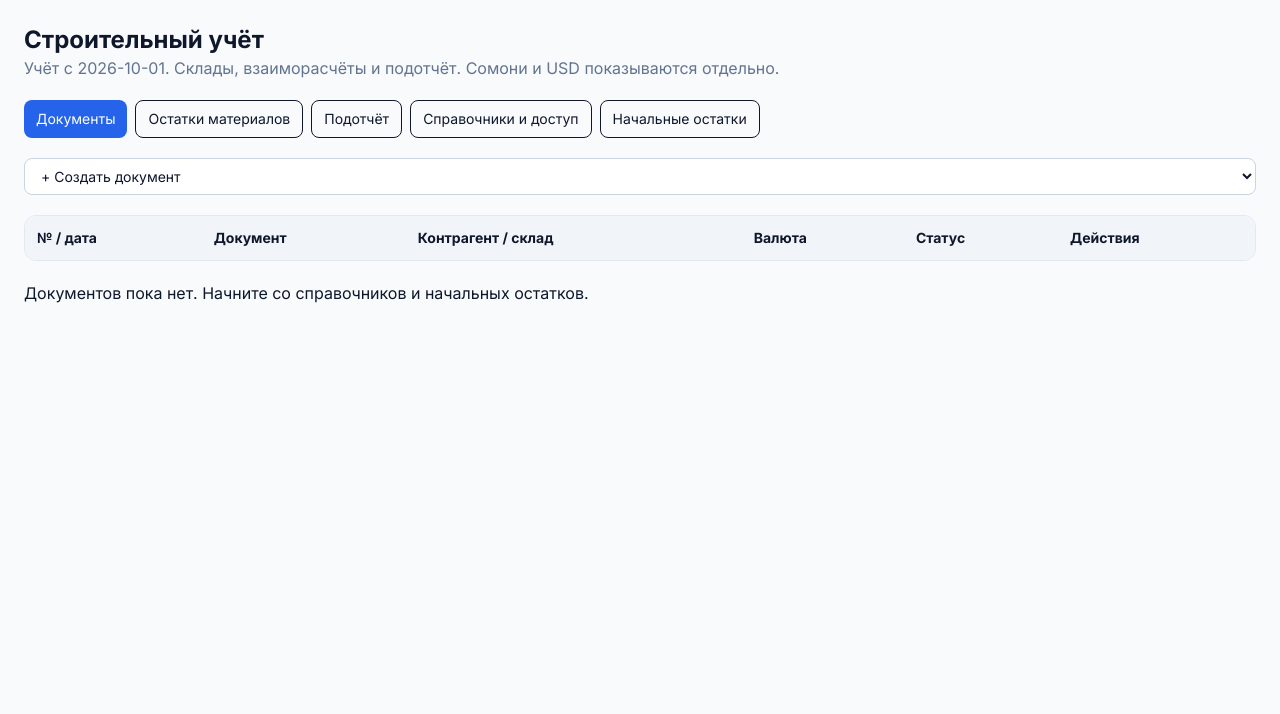
Construction page workflows › keeps material changes available when saving fails
Expected: the heading "Строительный учёт" is shown, [24,25,264,54]
Step 1. Click the button "Справочники и доступ" → [501, 119], box [410,100,592,138]
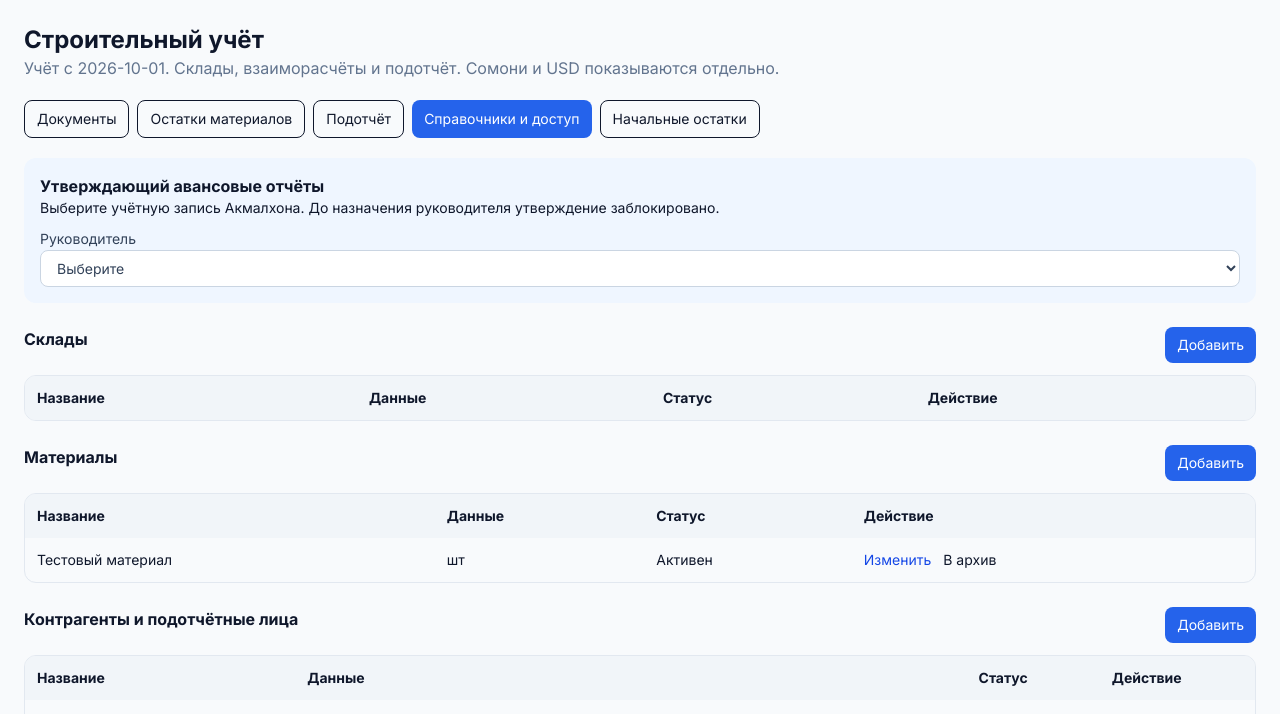
Step 2. Click the button "Изменить" → [898, 560], box [864,550,931,570]
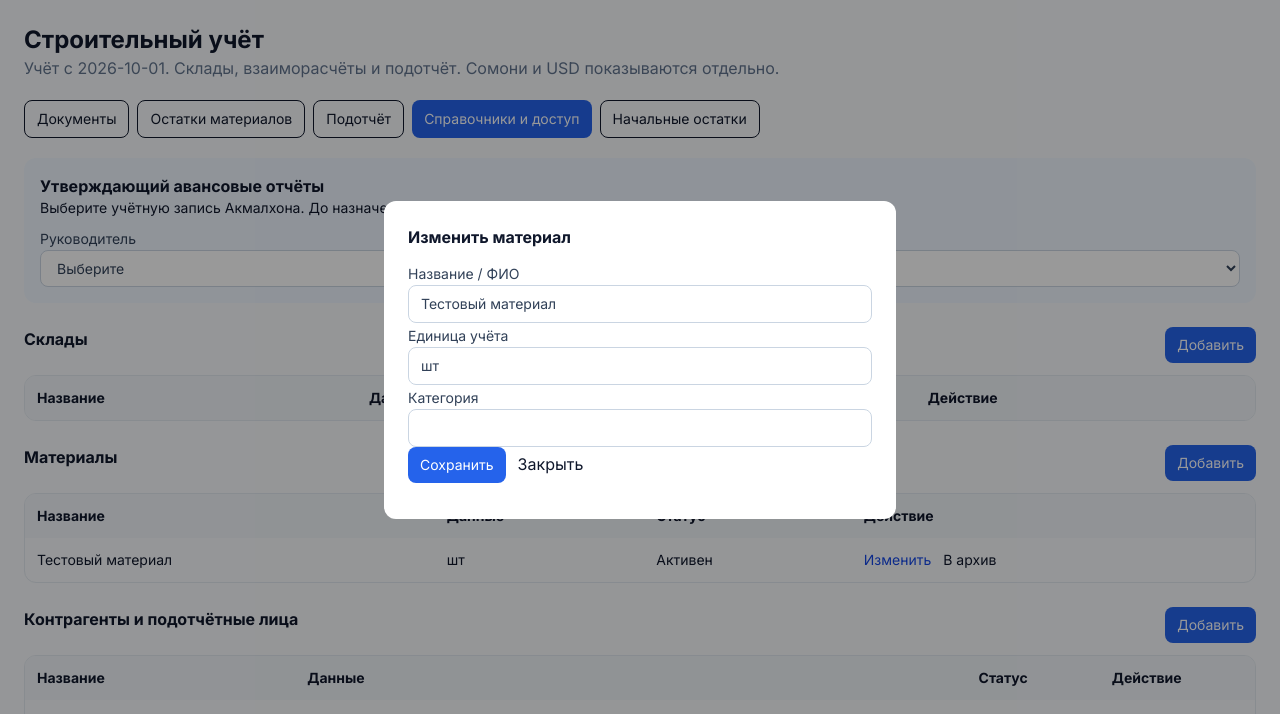
Step 3. Replace the text in the field labelled "Единица учёта" with "кг" → [640, 366], box [408,347,872,385]
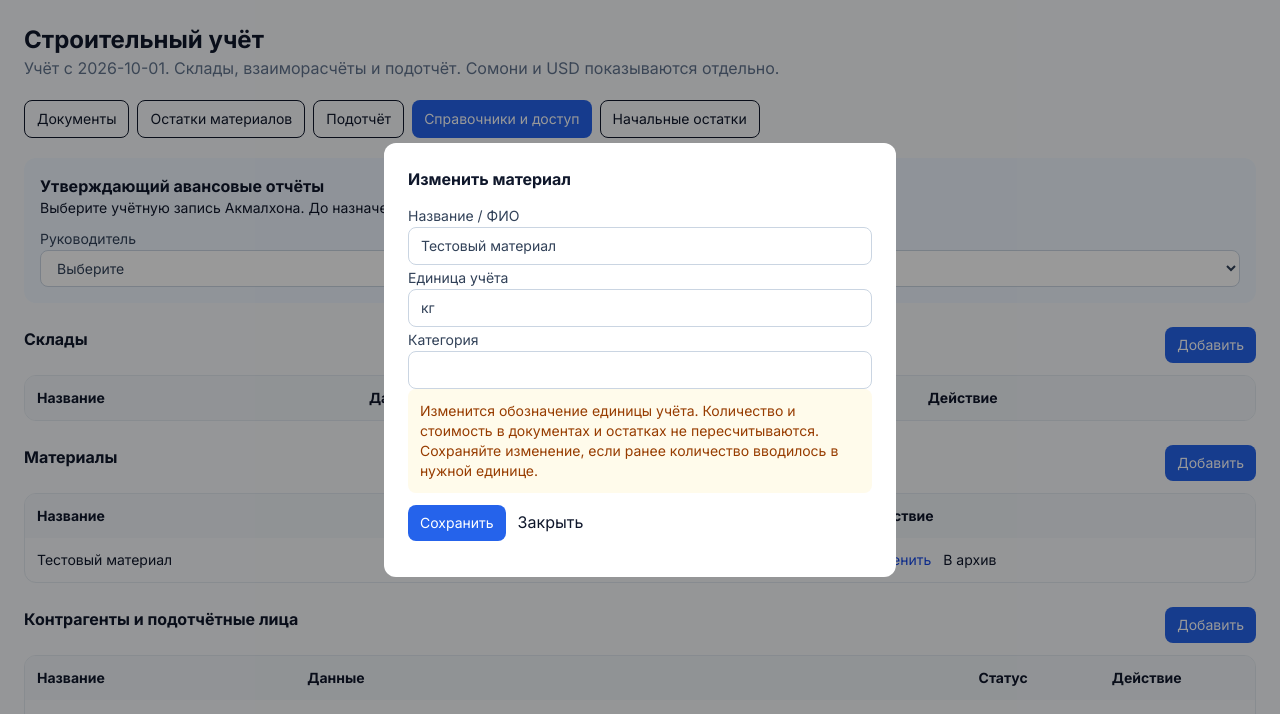
Step 4. Click the button "Сохранить" → [457, 523], box [408,505,506,541]
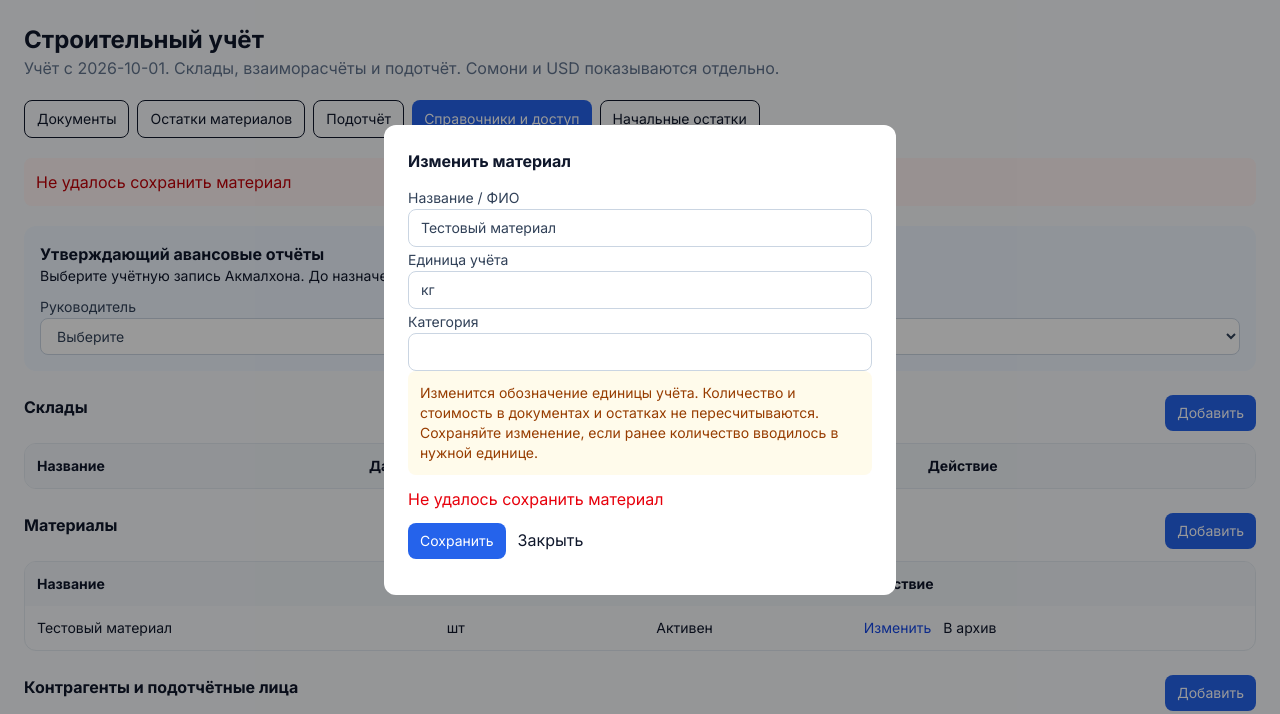
Now the text "Не удалось сохранить материал" is shown, box [408,489,664,509]
